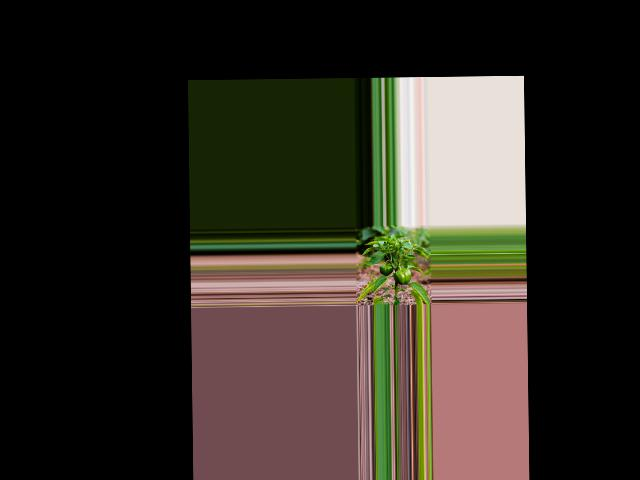bell_pepper: (378, 262, 393, 276)
